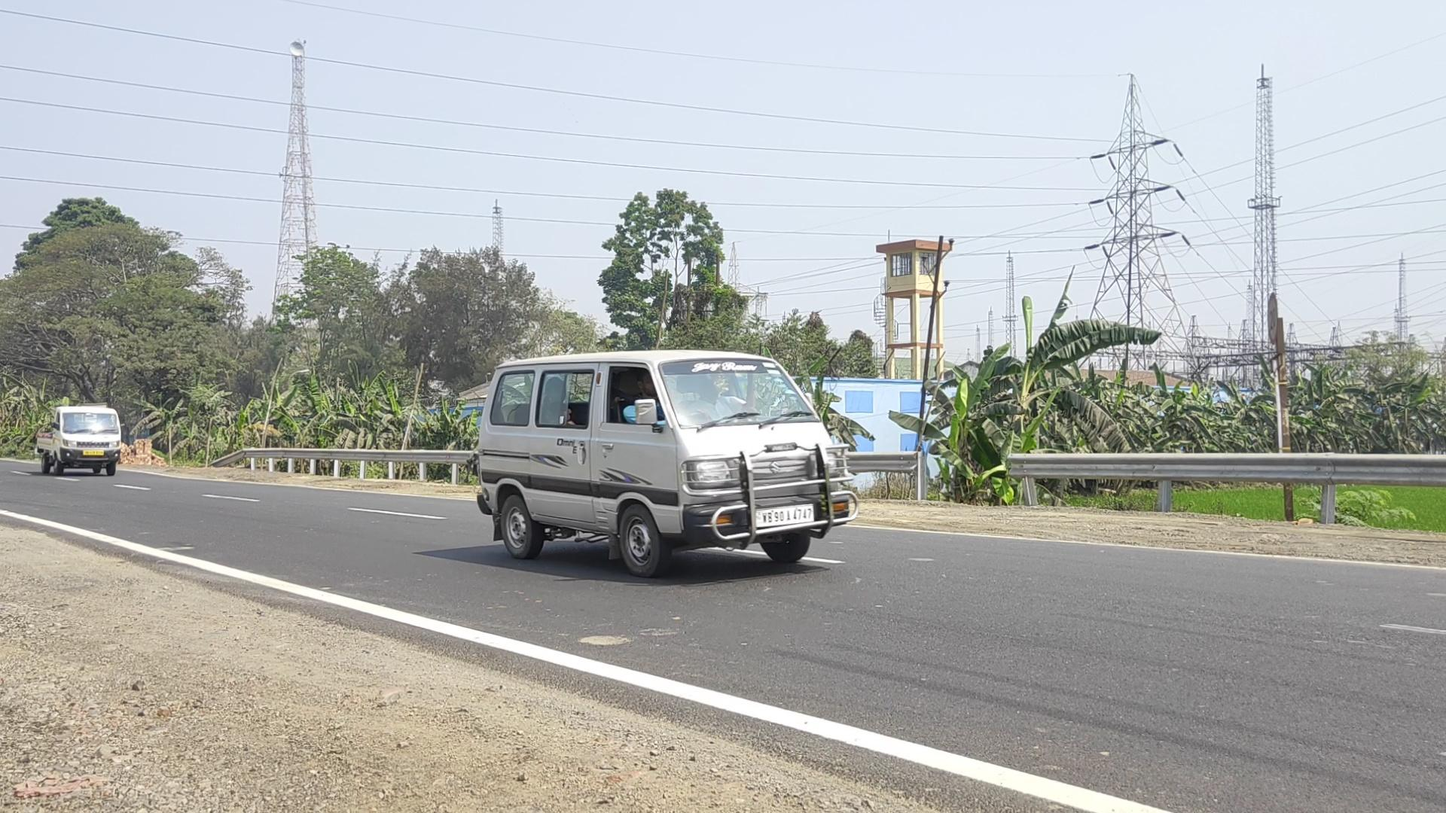van: (477, 349, 859, 577), (37, 406, 122, 477)
